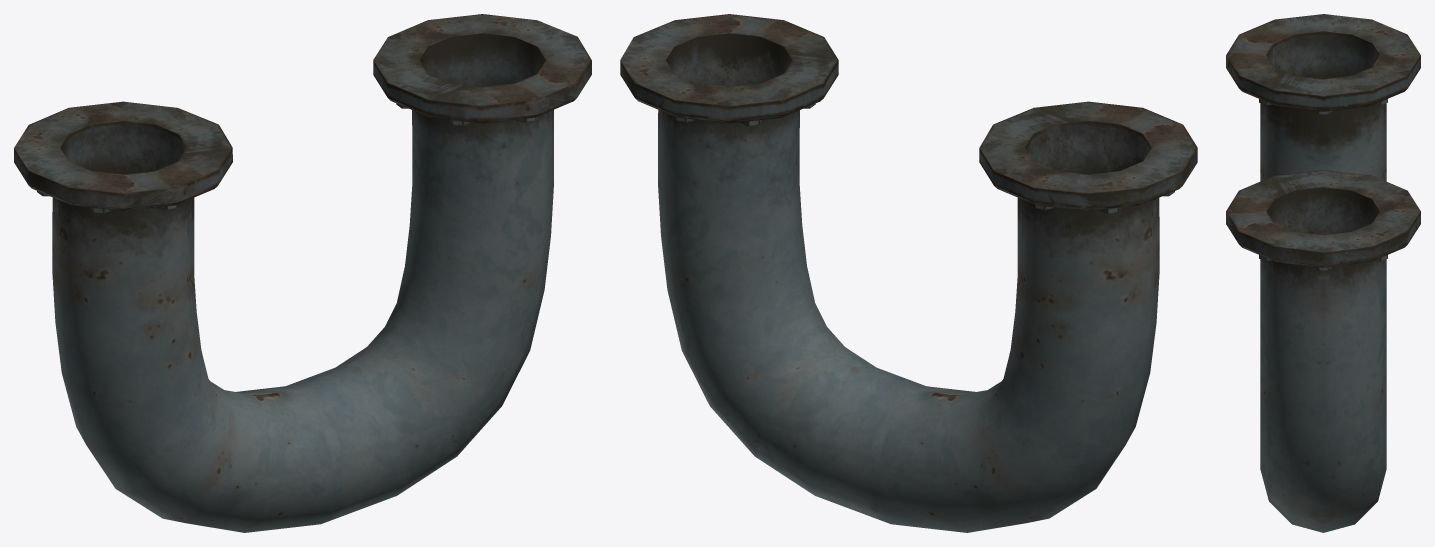
Rendered from pipe_pipe05.fbx.
3 renders of one model, left to right at view 1: azimuth 30°, elevation 25°; view 2: azimuth 150°, elevation 25°; view 3: azimuth 270°, elevation 25°, orthographic. The views are drawn at different scales.
Visible parts, largest first — view 1: modular_industrial_pipes_01_group02__modular_industrial_pipe; view 2: modular_industrial_pipes_01_group02__modular_industrial_pipe; view 3: modular_industrial_pipes_01_group02__modular_industrial_pipe.
Part boxes in pixels (left/top/right/bottom): modular_industrial_pipes_01_group02__modular_industrial_pipe: left=14, top=14, right=591, bottom=532; modular_industrial_pipes_01_group02__modular_industrial_pipe: left=620, top=14, right=1197, bottom=532; modular_industrial_pipes_01_group02__modular_industrial_pipe: left=1226, top=14, right=1420, bottom=532.
Bounding box in the file's own units: 0.5981 × 0.4329 × 0.2063.
